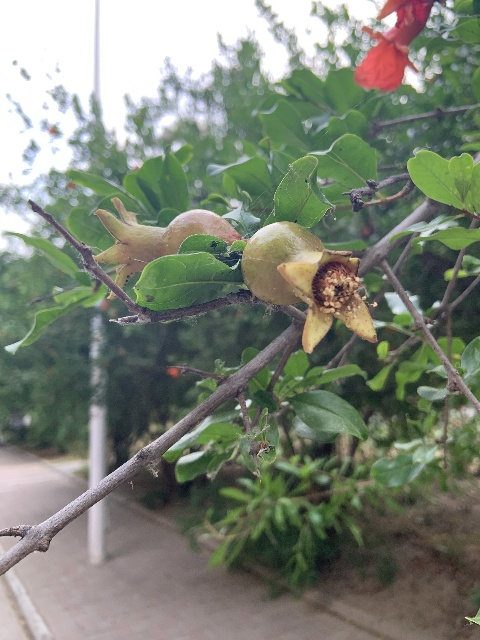early-fruit: (89, 196, 240, 306)
flower: (353, 16, 429, 92)
mid-growth: (240, 221, 376, 354)
